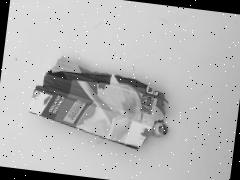cardboard: (4, 27, 206, 166)
